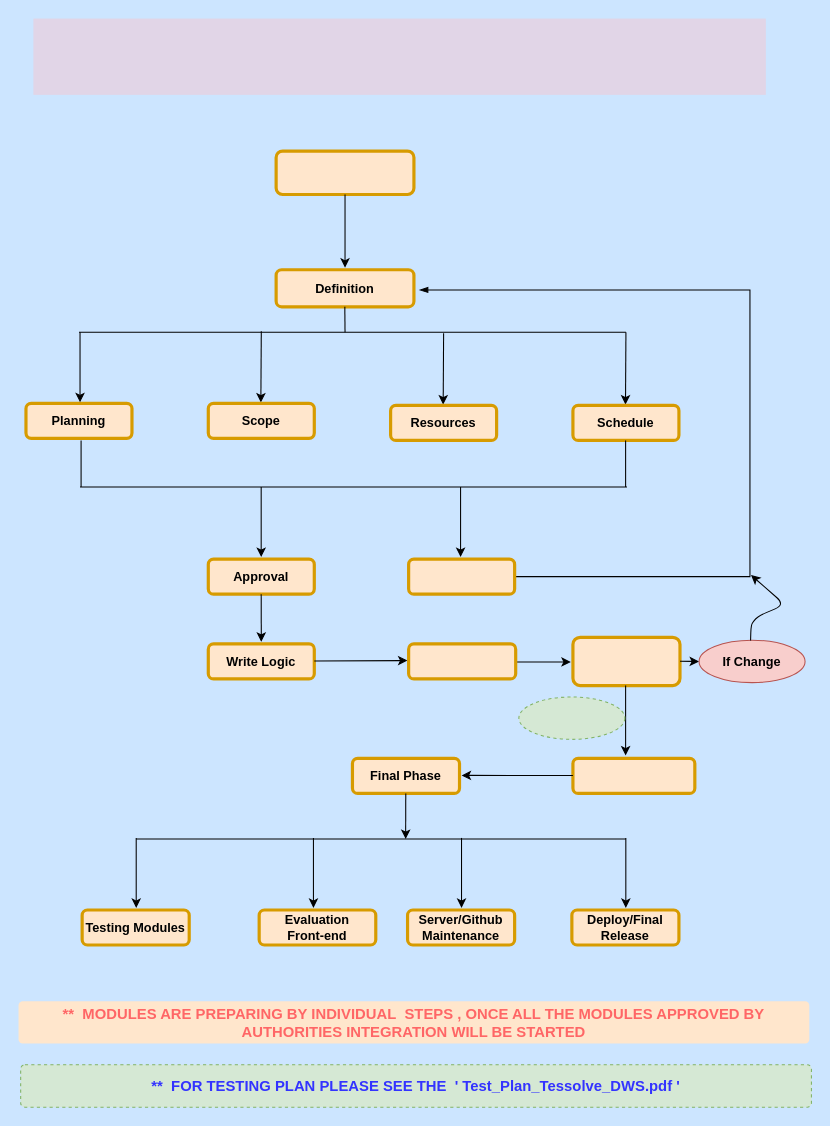
Some shapes in this 830 by 1126 pixel diagram are drawn without their labels. Each missing label, with the box of its shape:
Approved: (518, 696, 625, 739)
Changes: (407, 557, 516, 595)
Make Modules: (407, 642, 517, 680)
Monitor Process: (571, 756, 696, 794)
Performance & Control of Algorithm: (571, 635, 681, 687)
Project Conception/Initiation: (274, 149, 415, 196)
WATER-FLOW DIAGRAM OF TESSOLVE-DWS: (33, 18, 765, 94)
